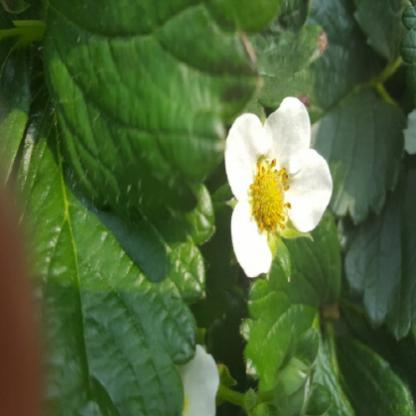Strawberry_Blossom_Blight: (246, 154, 294, 240)
